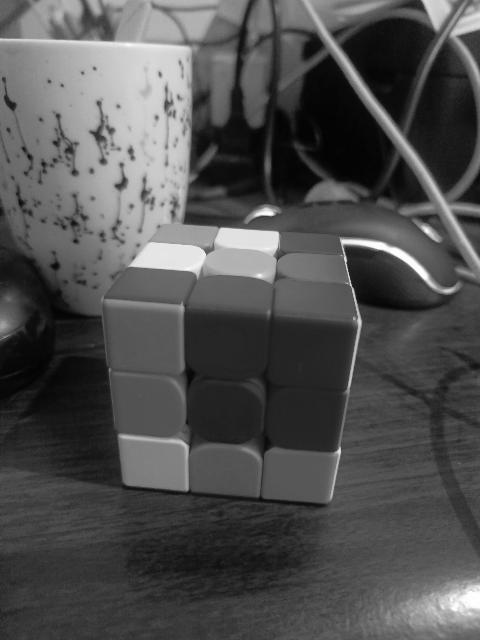rubik: (100, 222, 362, 504)
